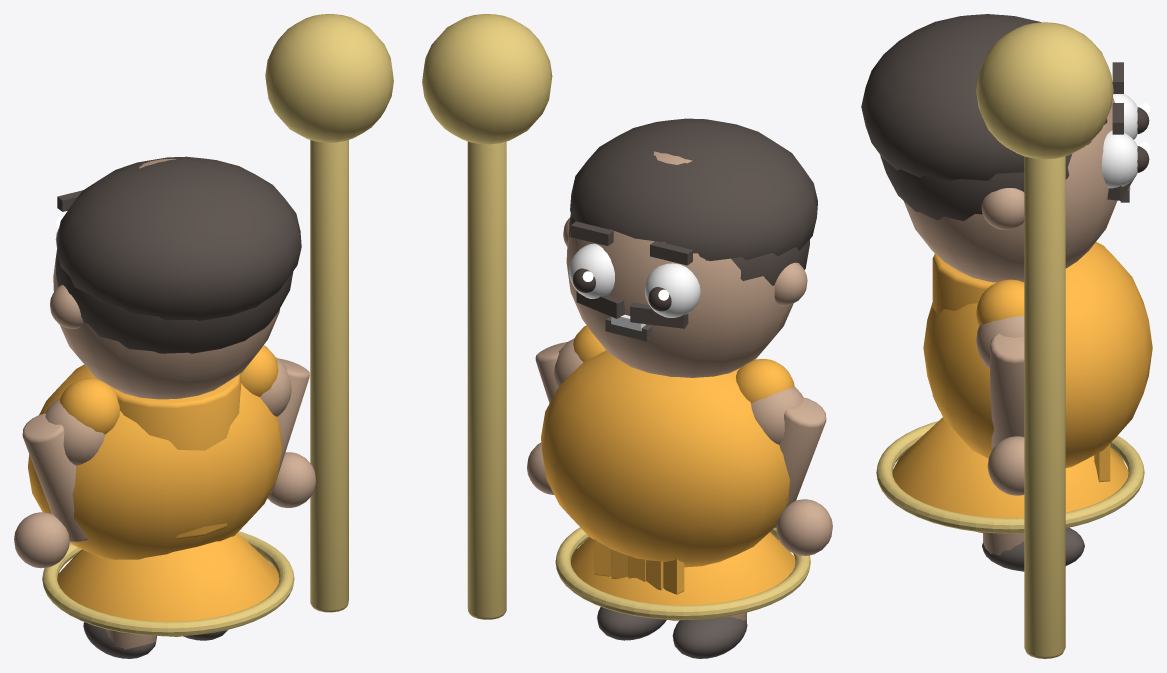
The model's file is strongman.glb.
3 renders of one model, left to right at view 1: azimuth 30°, elevation 25°; view 2: azimuth 150°, elevation 25°; view 3: azimuth 270°, elevation 25°, orthographic. The views are drawn at different scales.
Parts seen in each view (by area): view 1: GEO-strongman-crop, GEO-strongman-belly, GEO-strongman-gada, GEO-strongman-dhoti, GEO-strongman-gadahead, GEO-strongman-head, GEO-strongman-hair, GEO-strongman-torso, GEO-strongman-hem, GEO-strongman-arm, GEO-strongman-hand, GEO-strongman-shoulder (+8 smaller); view 2: GEO-strongman-belly, GEO-strongman-crop, GEO-strongman-gada, GEO-strongman-head, GEO-strongman-gadahead, GEO-strongman-dhoti, GEO-strongman-hem, GEO-strongman-arm, GEO-strongman-hand, GEO-strongman-shoe, GEO-strongman-eye, GEO-strongman-shoulder (+14 smaller); view 3: GEO-strongman-belly, GEO-strongman-gada, GEO-strongman-crop, GEO-strongman-gadahead, GEO-strongman-head, GEO-strongman-dhoti, GEO-strongman-hem, GEO-strongman-hair, GEO-strongman-arm.001, GEO-strongman-torso, GEO-strongman-hand.001, GEO-strongman-eye.001 (+7 smaller).
Boxes of the visible parts, x1,y1,x2,y2 form: GEO-strongman-crop: (56, 156, 301, 320); GEO-strongman-belly: (28, 364, 282, 559); GEO-strongman-gada: (310, 140, 348, 612); GEO-strongman-dhoti: (57, 532, 279, 636); GEO-strongman-gadahead: (265, 14, 393, 142); GEO-strongman-head: (53, 159, 279, 399); GEO-strongman-hair: (55, 250, 293, 353); GEO-strongman-torso: (112, 373, 240, 539); GEO-strongman-hem: (42, 531, 294, 636); GEO-strongman-arm: (22, 413, 87, 542); GEO-strongman-hand: (14, 512, 69, 568); GEO-strongman-shoulder: (60, 378, 119, 434); GEO-strongman-belly: (541, 350, 789, 567); GEO-strongman-crop: (570, 118, 817, 260); GEO-strongman-gada: (467, 141, 506, 619); GEO-strongman-head: (566, 151, 793, 377); GEO-strongman-gadahead: (422, 14, 552, 144); GEO-strongman-dhoti: (571, 532, 795, 620); GEO-strongman-hem: (555, 527, 810, 619); GEO-strongman-arm: (774, 397, 826, 527); GEO-strongman-hand: (776, 499, 832, 555); GEO-strongman-shoe: (672, 616, 747, 658); GEO-strongman-eye: (644, 263, 700, 317); GEO-strongman-shoulder: (736, 359, 794, 402); GEO-strongman-belly: (923, 241, 1152, 468); GEO-strongman-gada: (1024, 156, 1065, 658); GEO-strongman-crop: (861, 14, 1107, 180); GEO-strongman-gadahead: (976, 22, 1113, 159); GEO-strongman-head: (904, 97, 1117, 282); GEO-strongman-dhoti: (892, 417, 1128, 533); GEO-strongman-hem: (876, 421, 1144, 533); GEO-strongman-hair: (880, 141, 1091, 220); GEO-strongman-arm.001: (990, 333, 1024, 448); GEO-strongman-torso: (932, 254, 996, 410); GEO-strongman-hand.001: (987, 436, 1024, 495); GEO-strongman-eye.001: (1101, 130, 1137, 188).
Bounding box in the file's own units: 2.04 × 3 × 1.27.
